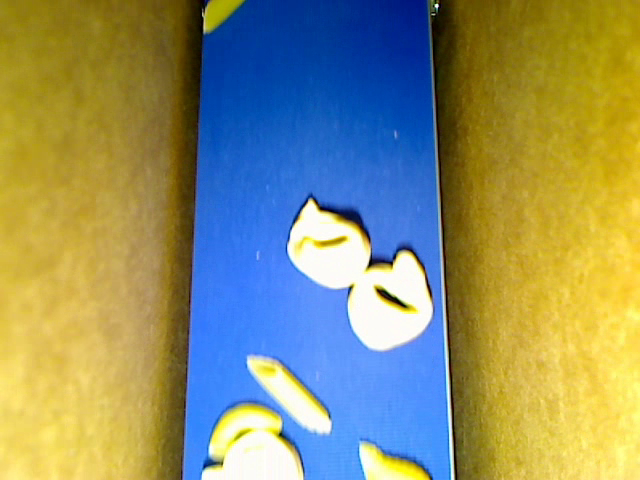elbow: (207, 404, 282, 460)
penne: (244, 354, 330, 433), (202, 1, 245, 34)
shell: (359, 441, 430, 479)
tortellini: (346, 250, 433, 352), (287, 197, 370, 290), (200, 429, 304, 479)
